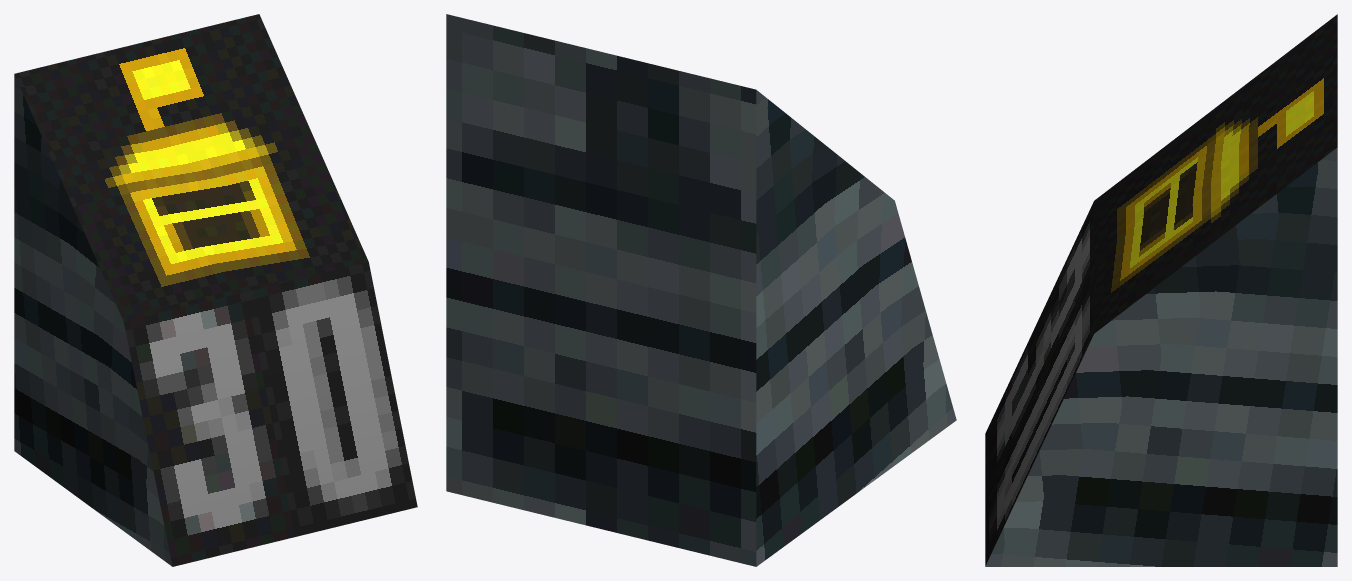
3 renders of one model, left to right at view 1: azimuth 30°, elevation 25°; view 2: azimuth 150°, elevation 25°; view 3: azimuth 270°, elevation 25°, orthographic. The views are drawn at different scales.
Visible parts, largest first — view 1: Hk_obj_029; view 2: Hk_obj_029; view 3: Hk_obj_029.
Boxes of the visible parts, x1,y1,x2,y2 form: Hk_obj_029: (14,14,417,566); Hk_obj_029: (446,14,956,566); Hk_obj_029: (985,14,1337,566).
Size of the model in its own units: 1 by 1.47 by 1.12.
1 material, 1 textured.
